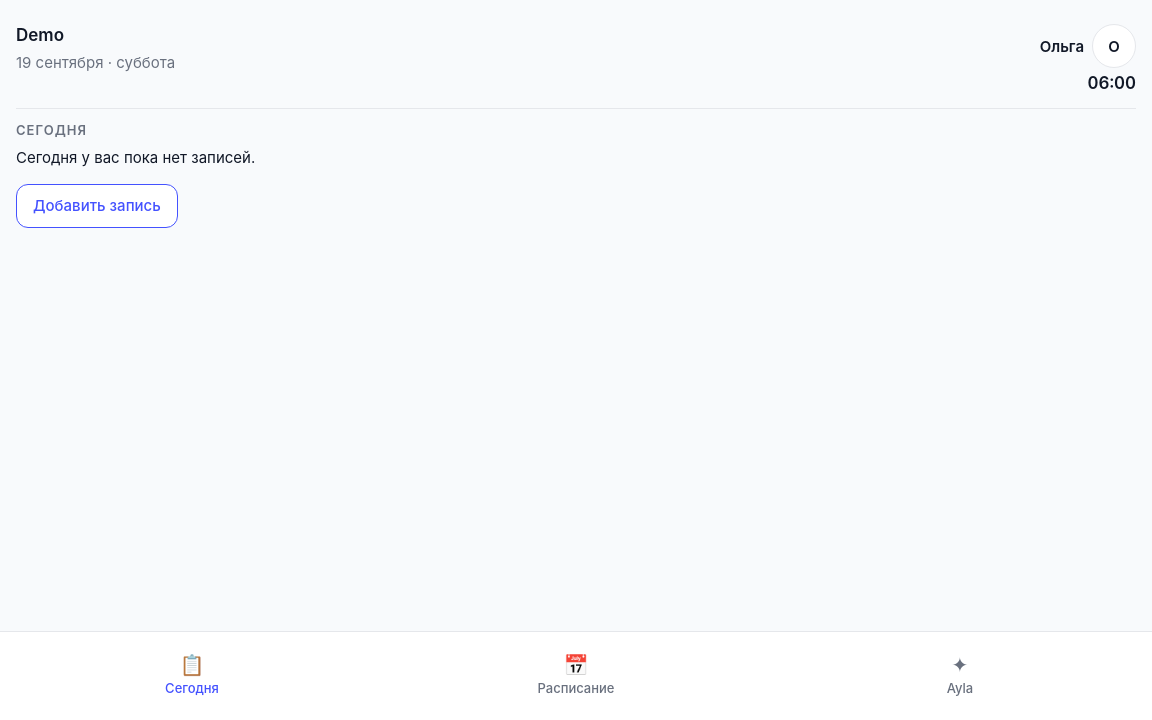
Scenario: solo surface — admin escape hatch (DRF-1149 → лист аватара, DRF-2127) › hides «Управление салоном» from a master-only caller
Click the button named "Меню профиля" at (1114, 46), box [1092,24,1136,68]
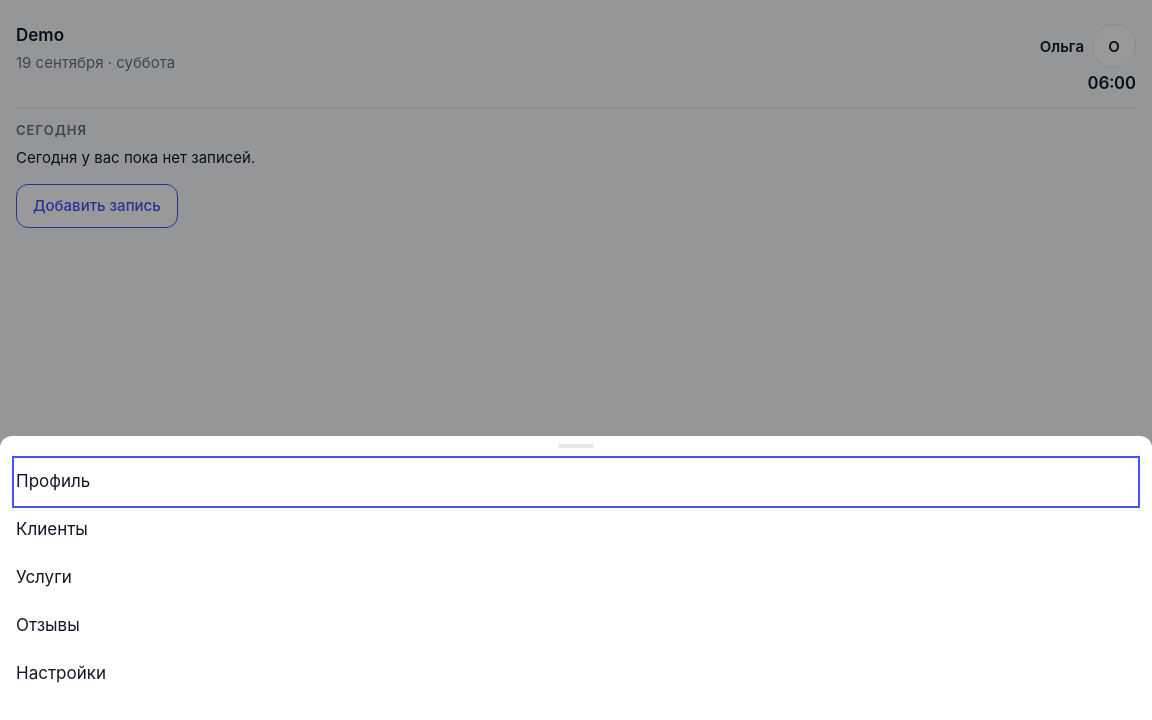
Expected: the button "Профиль" is shown, [16,460,1136,504]
